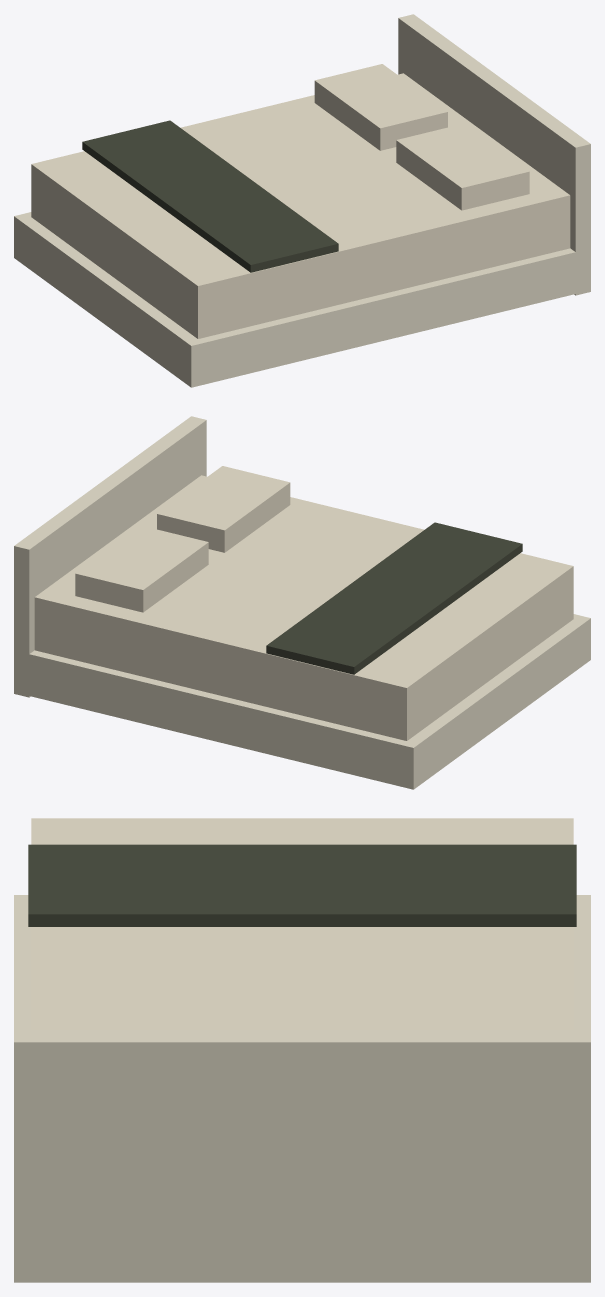
Rendered from bed.glb.
The picture shows the model from 3 angles, top to bottom: view 1: azimuth 30°, elevation 25°; view 2: azimuth 150°, elevation 25°; view 3: azimuth 270°, elevation 25°; orthographic projection. The views are drawn at different scales.
Parts seen in each view (by area): view 1: REF-L01-R01-bed-part-2, REF-L01-R01-bed-part-1, REF-L01-R01-bed-part-6, REF-L01-R01-bed-part-3, REF-L01-R01-bed-part-5, REF-L01-R01-bed-part-4; view 2: REF-L01-R01-bed-part-2, REF-L01-R01-bed-part-1, REF-L01-R01-bed-part-6, REF-L01-R01-bed-part-3, REF-L01-R01-bed-part-4, REF-L01-R01-bed-part-5; view 3: REF-L01-R01-bed-part-3, REF-L01-R01-bed-part-2, REF-L01-R01-bed-part-6, REF-L01-R01-bed-part-4, REF-L01-R01-bed-part-5, REF-L01-R01-bed-part-1.
Part boxes in pixels (box(x1,y1,x2,y2)): REF-L01-R01-bed-part-2: box(31, 73, 570, 338); REF-L01-R01-bed-part-1: box(14, 212, 590, 387); REF-L01-R01-bed-part-6: box(82, 120, 338, 272); REF-L01-R01-bed-part-3: box(398, 14, 590, 295); REF-L01-R01-bed-part-5: box(396, 123, 529, 210); REF-L01-R01-bed-part-4: box(314, 64, 447, 150); REF-L01-R01-bed-part-2: box(34, 475, 573, 740); REF-L01-R01-bed-part-1: box(14, 614, 590, 789); REF-L01-R01-bed-part-6: box(266, 522, 522, 674); REF-L01-R01-bed-part-3: box(14, 416, 206, 697); REF-L01-R01-bed-part-4: box(75, 525, 208, 612); REF-L01-R01-bed-part-5: box(157, 466, 290, 552); REF-L01-R01-bed-part-3: box(14, 1030, 590, 1282); REF-L01-R01-bed-part-2: box(31, 818, 573, 1029); REF-L01-R01-bed-part-6: box(28, 844, 576, 926); REF-L01-R01-bed-part-4: box(328, 996, 541, 1029); REF-L01-R01-bed-part-5: box(63, 996, 276, 1029); REF-L01-R01-bed-part-1: box(14, 895, 590, 1029).
Bounding box in the file's own units: 0.6505 × 0.23 × 0.5.
